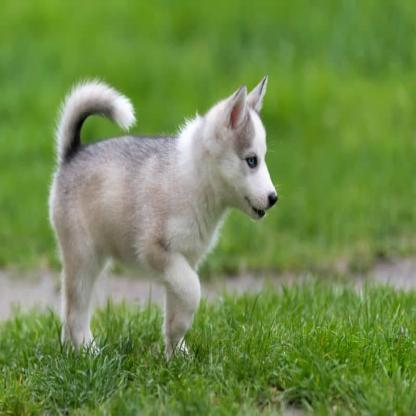dog: (48, 75, 276, 356)
